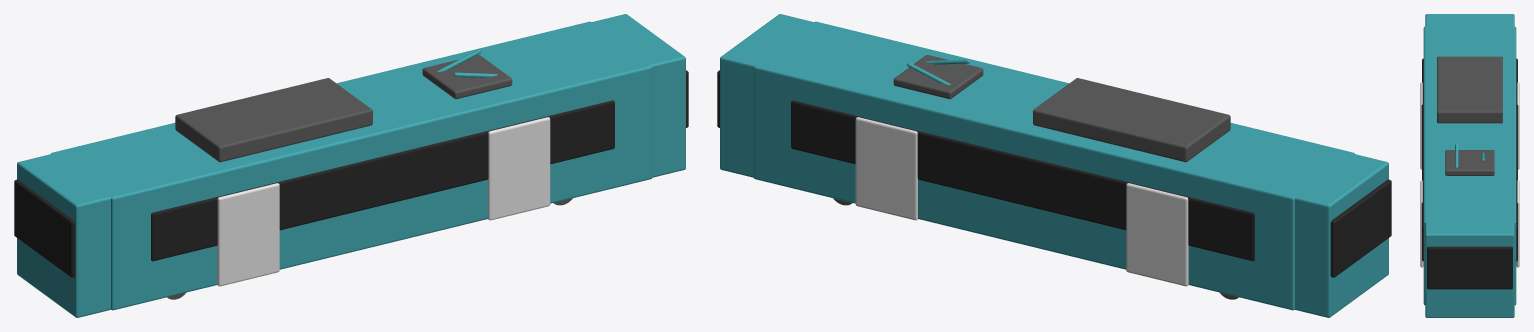
The model's file is Urban_Metro_Tram.fbx.
3 views of the same model, side by side, from view 1: azimuth 30°, elevation 25°; view 2: azimuth 150°, elevation 25°; view 3: azimuth 270°, elevation 25° (orthographic). The views are drawn at different scales.
Visible parts, largest first — view 1: Tram_Main_Body, Window_Main_R, Roof_AC, Tram_Nose_R, Tram_Nose_F, Door_4, Door_3, Window_Rear, Pantograph_Base; view 2: Tram_Main_Body, Window_Main_L, Roof_AC, Tram_Nose_R, Tram_Nose_F, Door_2, Door_1, Window_Rear, Pantograph_Base; view 3: Tram_Main_Body, Tram_Nose_F, Roof_AC, Window_Front, Pantograph_Base, Tram_Nose_R, Window_Main_L, Window_Main_R, Door_1, Door_3, Door_2, Door_4 (+1 smaller).
Part boxes in pixels (x1,y1,x2,y2): Tram_Main_Body: [51, 21, 652, 310]; Window_Main_R: [151, 100, 614, 261]; Roof_AC: [175, 78, 372, 162]; Tram_Nose_R: [17, 153, 111, 317]; Tram_Nose_F: [591, 14, 685, 177]; Door_4: [217, 183, 279, 286]; Door_3: [488, 117, 550, 220]; Window_Rear: [14, 179, 75, 277]; Pantograph_Base: [422, 55, 512, 99]; Tram_Main_Body: [753, 21, 1354, 310]; Window_Main_L: [791, 100, 1254, 261]; Roof_AC: [1033, 78, 1230, 162]; Tram_Nose_R: [1294, 153, 1388, 317]; Tram_Nose_F: [720, 14, 814, 177]; Door_2: [1126, 183, 1188, 286]; Door_1: [855, 117, 917, 220]; Window_Rear: [1330, 179, 1391, 277]; Pantograph_Base: [893, 55, 983, 99]; Tram_Main_Body: [1423, 26, 1516, 305]; Tram_Nose_F: [1425, 221, 1514, 317]; Roof_AC: [1437, 56, 1502, 123]; Window_Front: [1427, 246, 1512, 289]; Pantograph_Base: [1445, 150, 1494, 175]; Tram_Nose_R: [1425, 14, 1514, 26]; Window_Main_L: [1516, 58, 1517, 261]; Window_Main_R: [1422, 58, 1423, 261]; Door_1: [1516, 180, 1519, 267]; Door_3: [1420, 180, 1423, 267]; Door_2: [1517, 82, 1519, 169]; Door_4: [1420, 82, 1422, 169].
Size of the model in its own units: 16 by 3 by 3.69.
